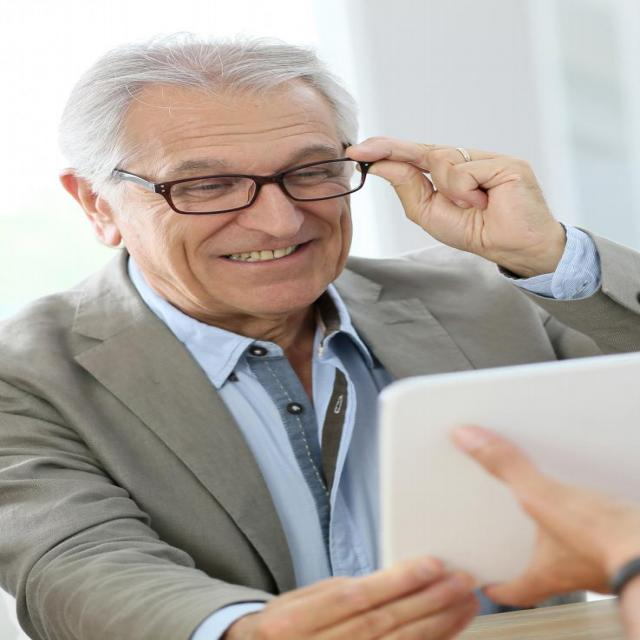Glasses: (109, 156, 371, 218)
